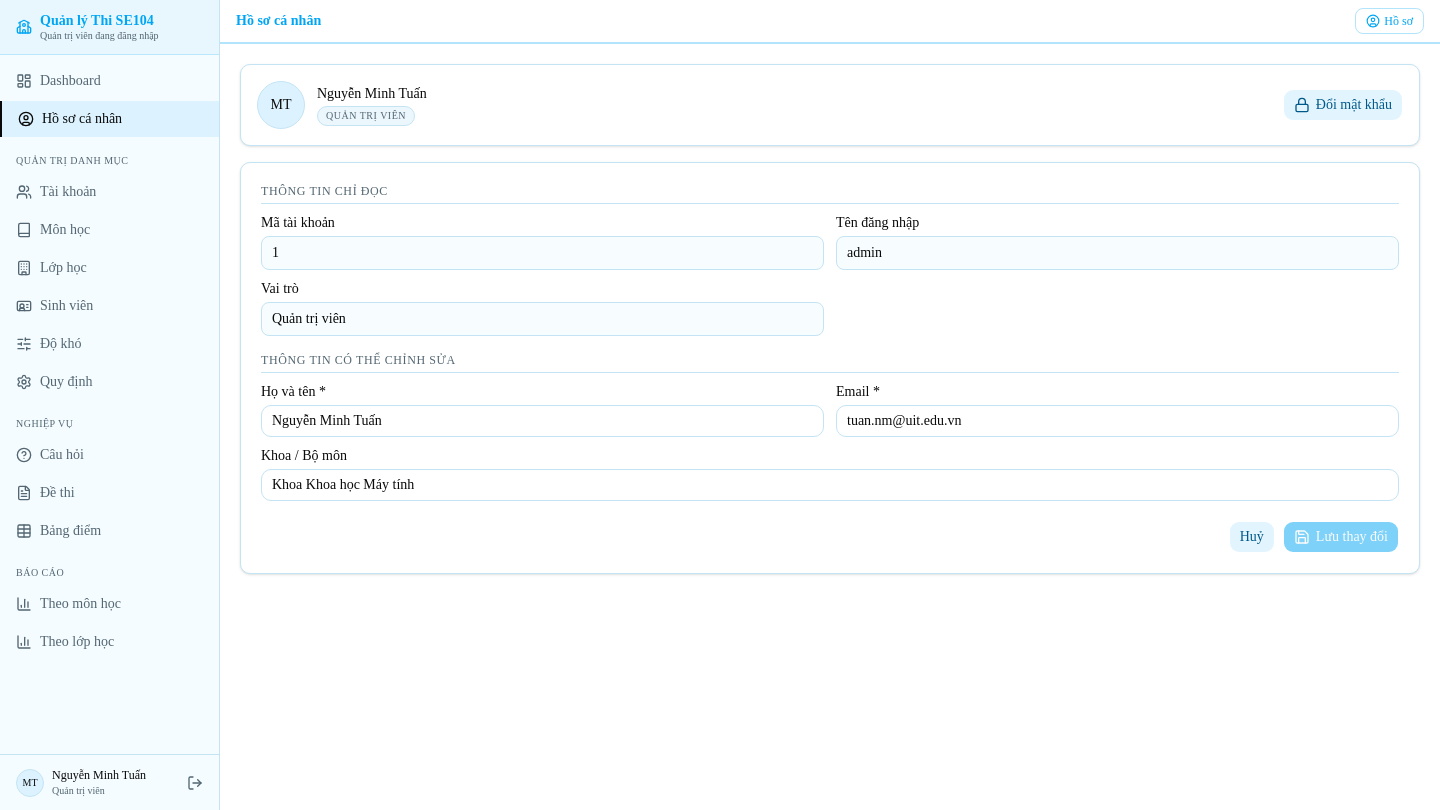
Test case: ProfilePage › submits PATCH /users/me on save and shows success toast
Replace the text in the field labelled "Họ và tên *" with "Tên Mới": (542, 421) left=261, top=405, right=824, bottom=437
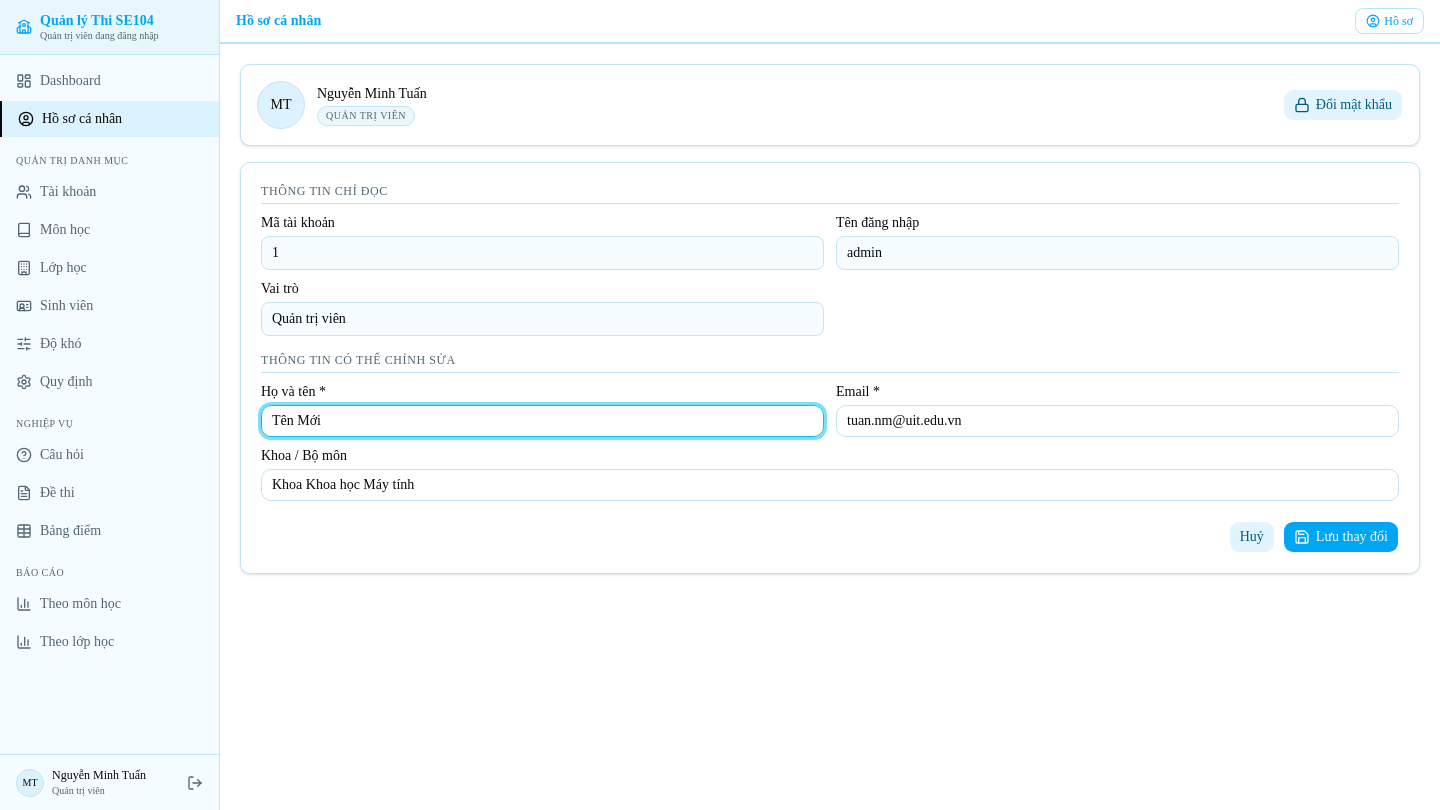
Click the button "Lưu thay đổi": (1341, 537) left=1283, top=521, right=1399, bottom=553
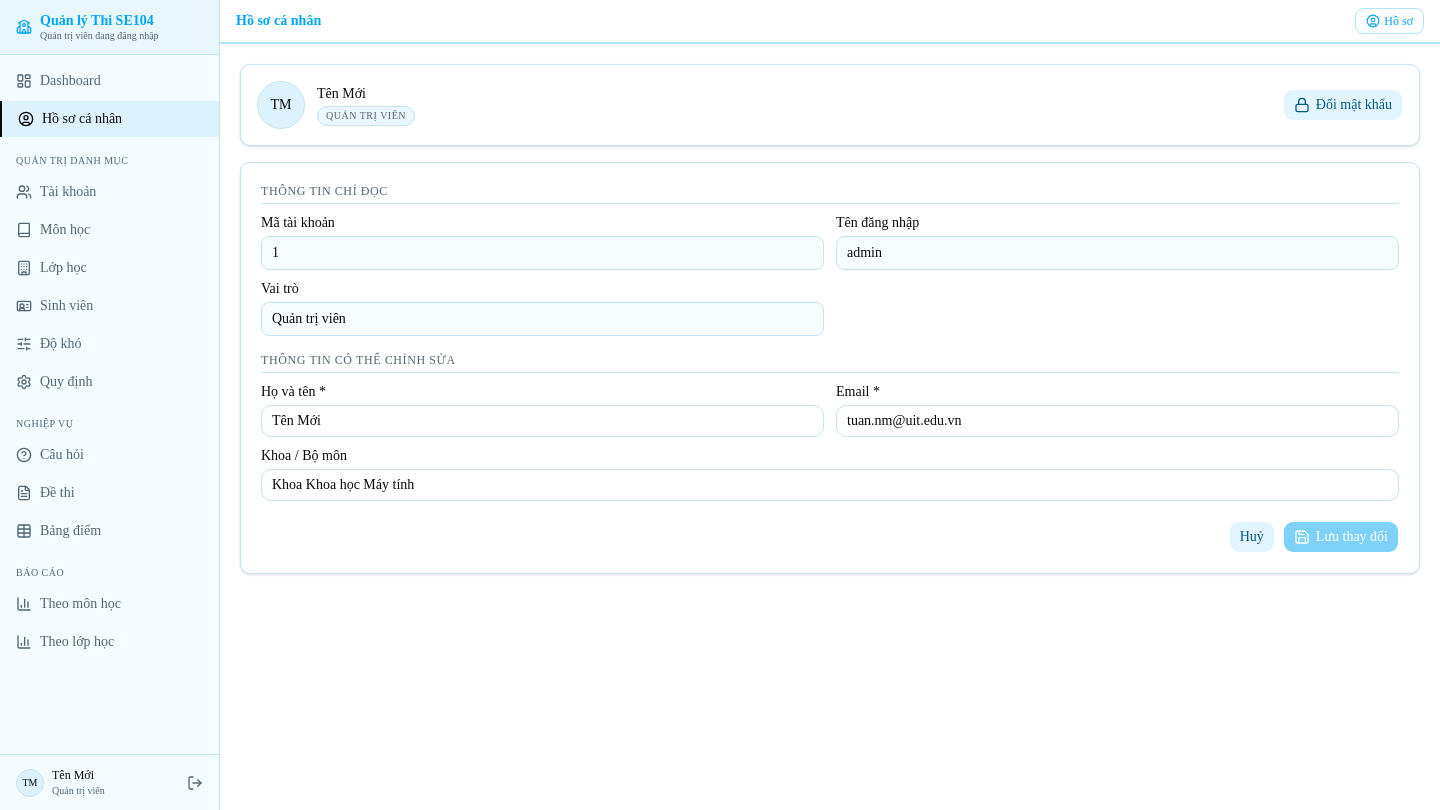
Expected: the text "Tên Mới" below "Theo lớp học" is shown, left=52, top=768, right=94, bottom=782
